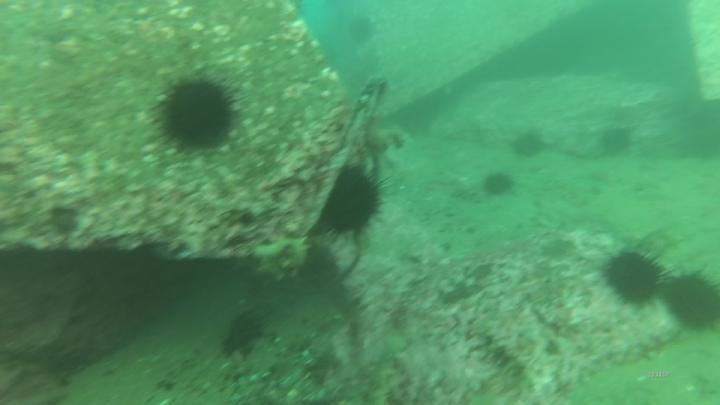echinus: (155, 73, 245, 160), (311, 157, 392, 243), (594, 234, 666, 305), (659, 265, 719, 338), (223, 311, 268, 360), (482, 168, 516, 201), (515, 129, 545, 162)
holothurian: (249, 235, 311, 289)
